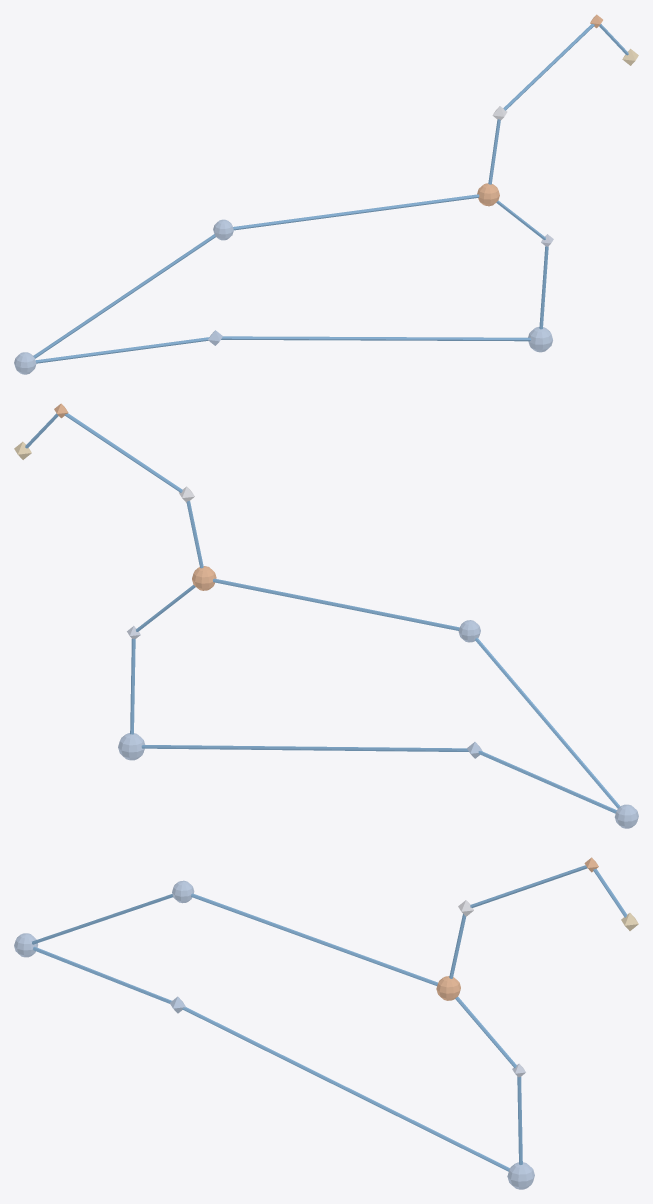
File: constellation-leo.glb
3 views of the same model, one above another, from view 1: azimuth 30°, elevation 25°; view 2: azimuth 150°, elevation 25°; view 3: azimuth 330°, elevation 25° (orthographic). The views are drawn at different scales.
Bounding box in the file's own units: 3.11 × 1.57 × 0.4171.
